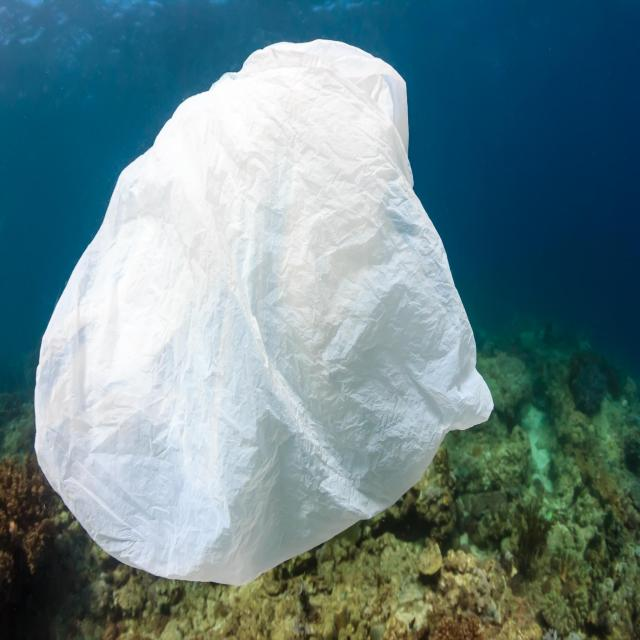plastic_bag: (37, 36, 524, 576)
